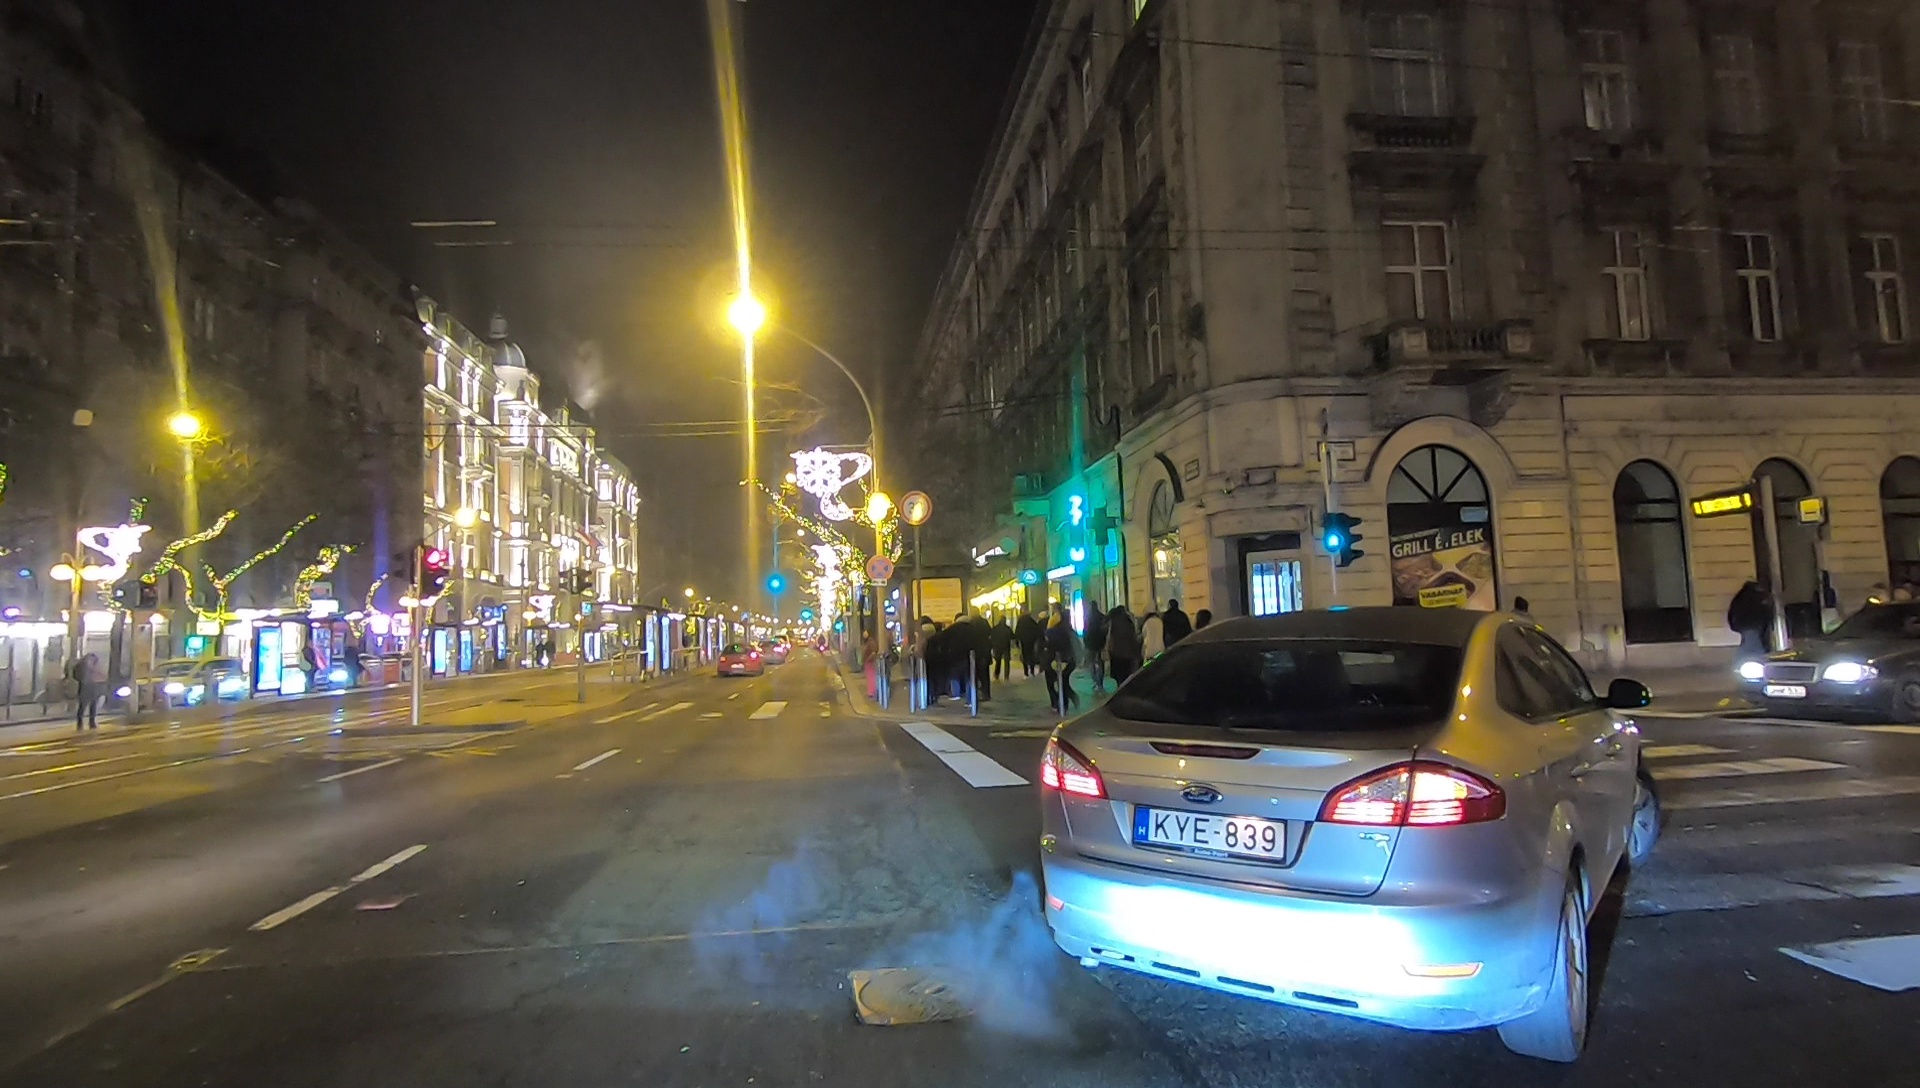person: (1731, 576, 1770, 685), (1049, 605, 1078, 710), (951, 606, 975, 703), (971, 604, 993, 701), (1111, 608, 1135, 689), (1084, 603, 1105, 688), (77, 652, 100, 725), (1018, 606, 1037, 672), (995, 616, 1014, 678), (1144, 612, 1161, 673), (302, 644, 318, 694), (345, 645, 361, 684)
